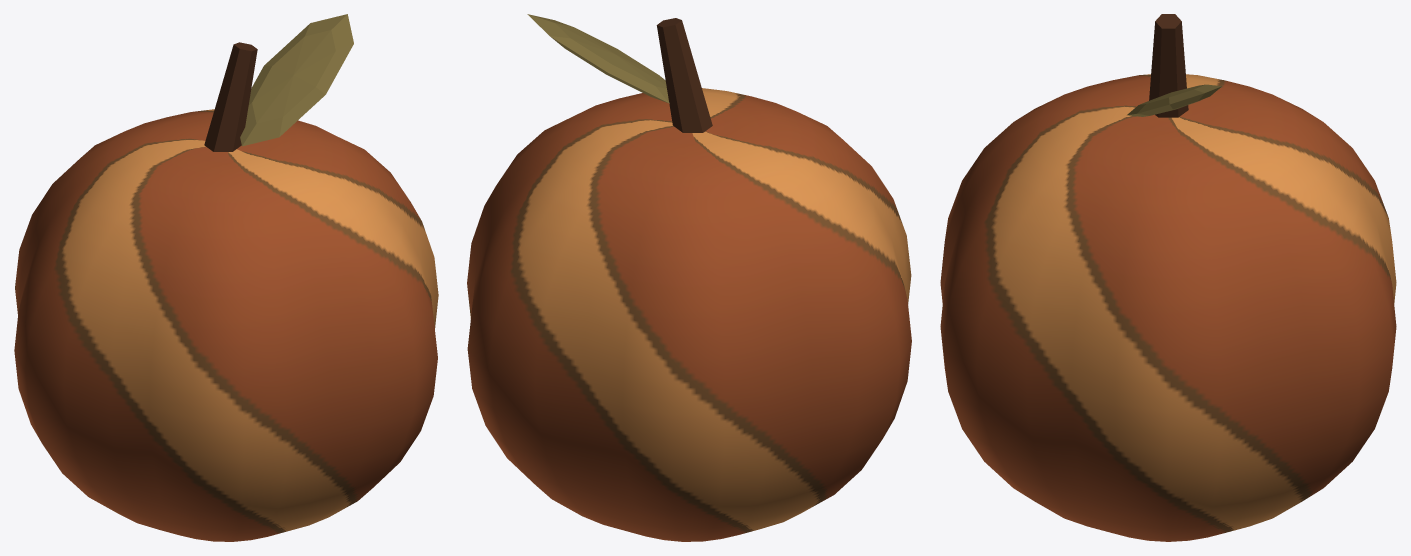
Rendered from Fruit_Rust.fbx.
3 renders of one model, left to right at view 1: azimuth 30°, elevation 25°; view 2: azimuth 150°, elevation 25°; view 3: azimuth 270°, elevation 25°, orthographic. The views are drawn at different scales.
Visible parts, largest first — view 1: Fruit_Rust; view 2: Fruit_Rust; view 3: Fruit_Rust.
Boxes of the visible parts, left/top/right/bottom form: Fruit_Rust: left=14, top=14, right=438, bottom=541; Fruit_Rust: left=467, top=14, right=911, bottom=541; Fruit_Rust: left=940, top=14, right=1396, bottom=541.
Bounding box in the file's own units: 1.7 × 1.9 × 1.54.
1 material, 1 textured.
